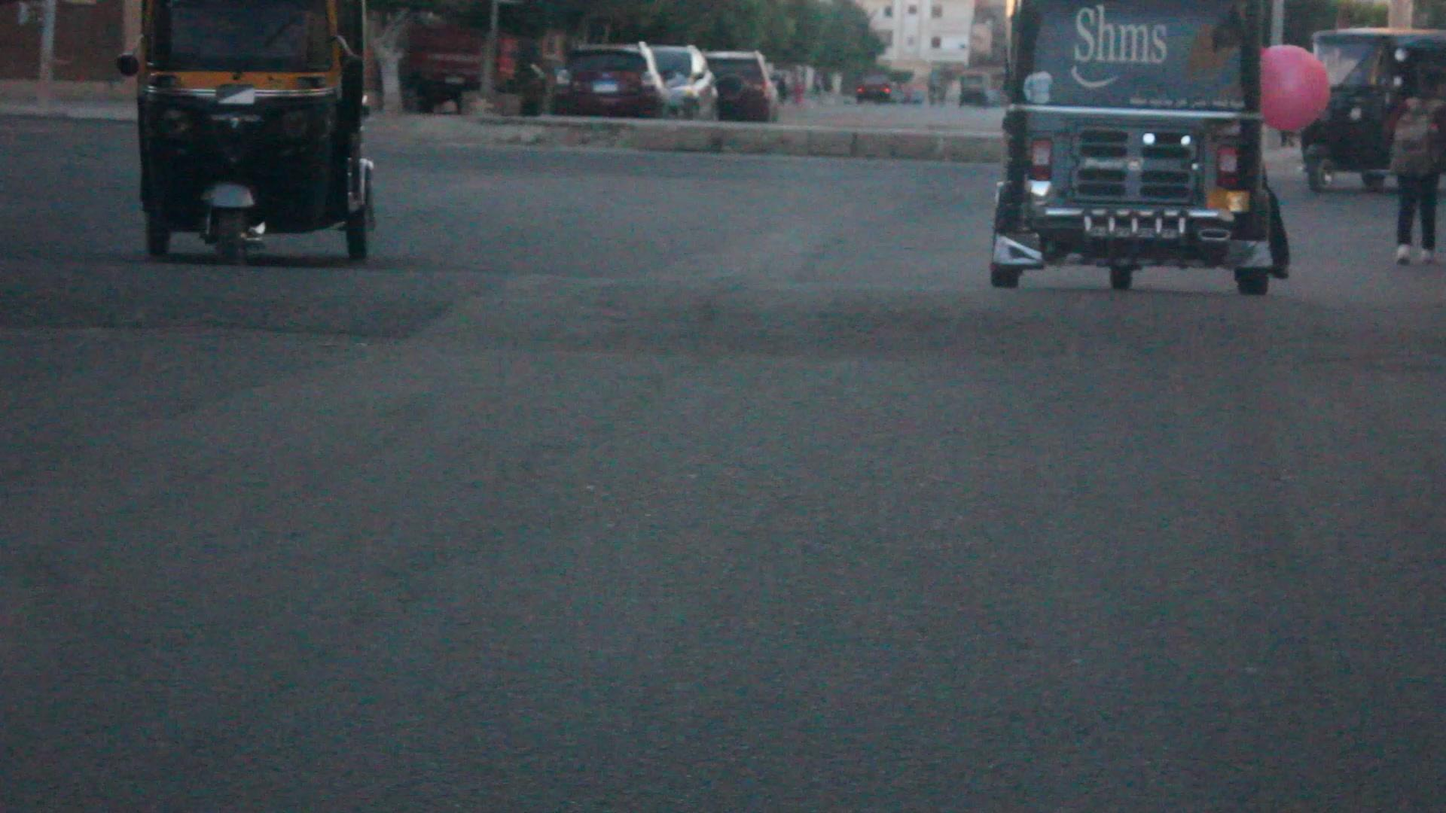Bump: (0, 252, 1446, 352)
